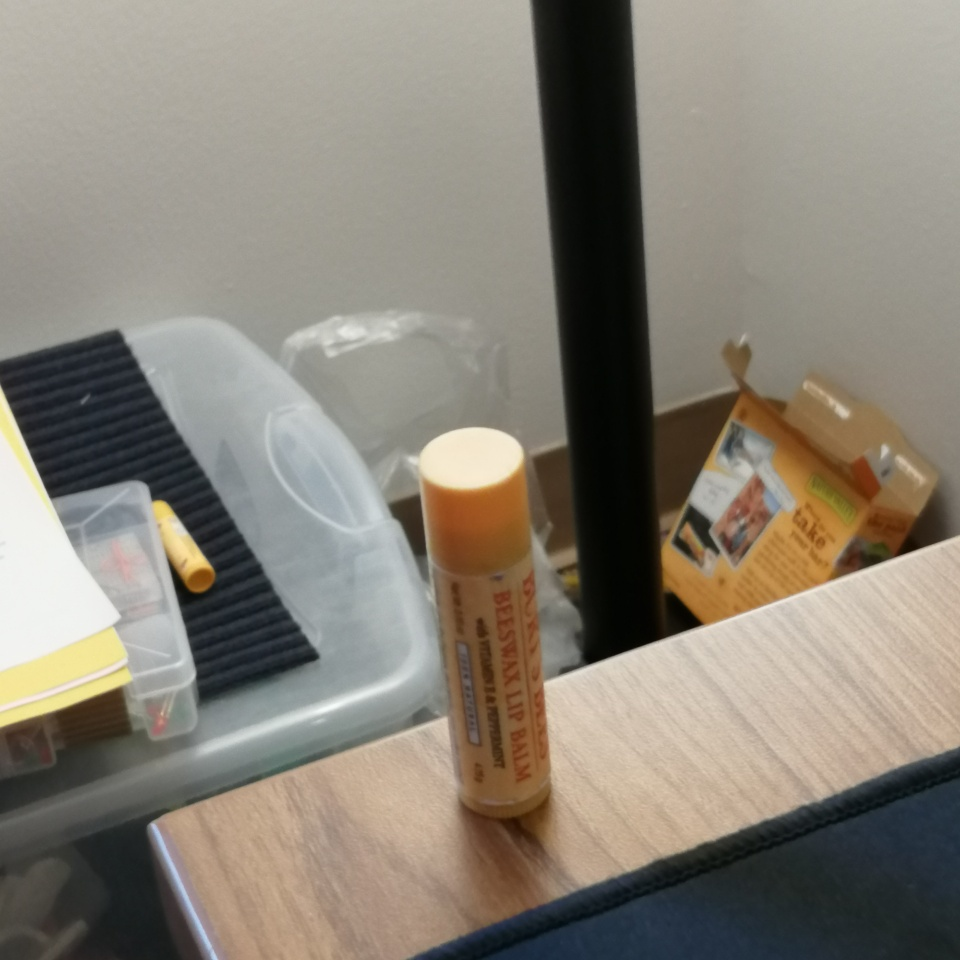chapstick: (419, 426, 553, 818)
